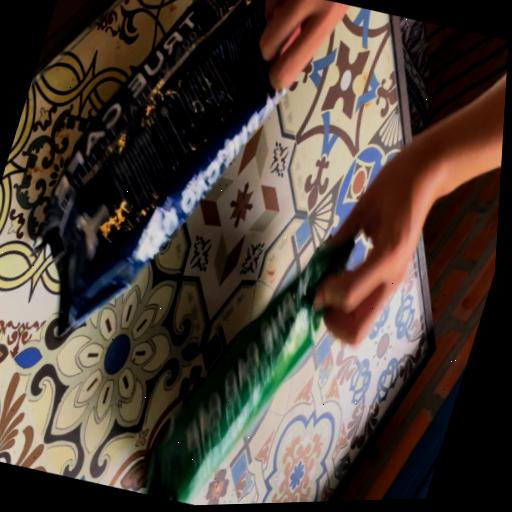cafe_hat: (39, 0, 283, 332)
cafe_xay: (145, 238, 353, 504)
